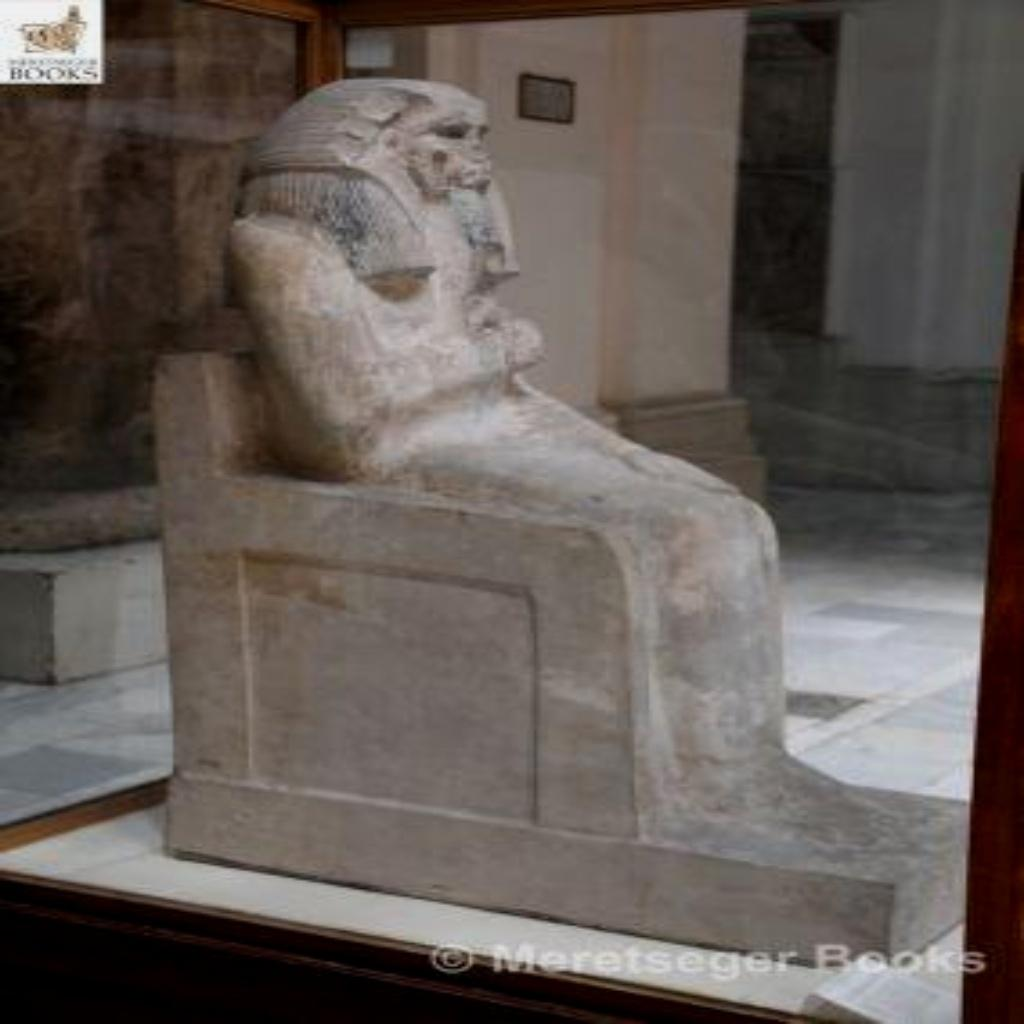Statue of King Zoser: (148, 72, 966, 974)
